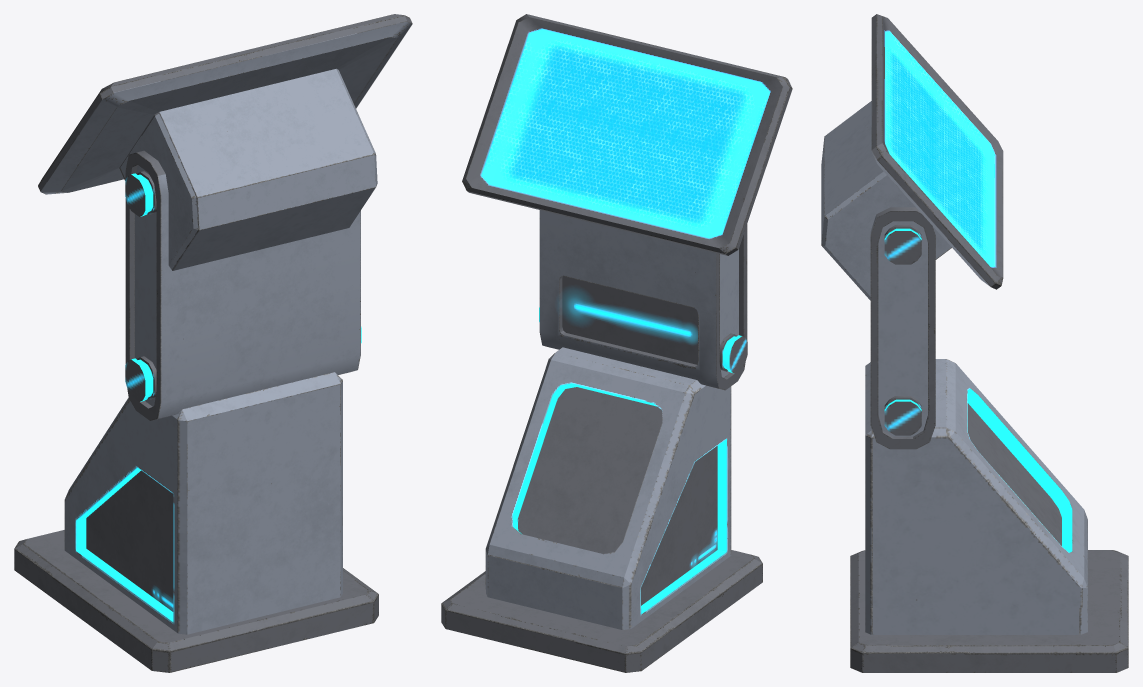
File: terminal_2.glb
3 renders of one model, left to right at view 1: azimuth 30°, elevation 25°; view 2: azimuth 150°, elevation 25°; view 3: azimuth 270°, elevation 25°, orthographic. The views are drawn at different scales.
Parts seen in each view (by area): view 1: Terminal8; view 2: Terminal8; view 3: Terminal8.
Boxes of the visible parts, x1,y1,x2,y2 form: Terminal8: [14, 14, 412, 672]; Terminal8: [441, 14, 792, 672]; Terminal8: [821, 14, 1128, 672].
Bounding box in the file's own units: 69.6 × 126 × 64.63.
1 material, 1 textured.
